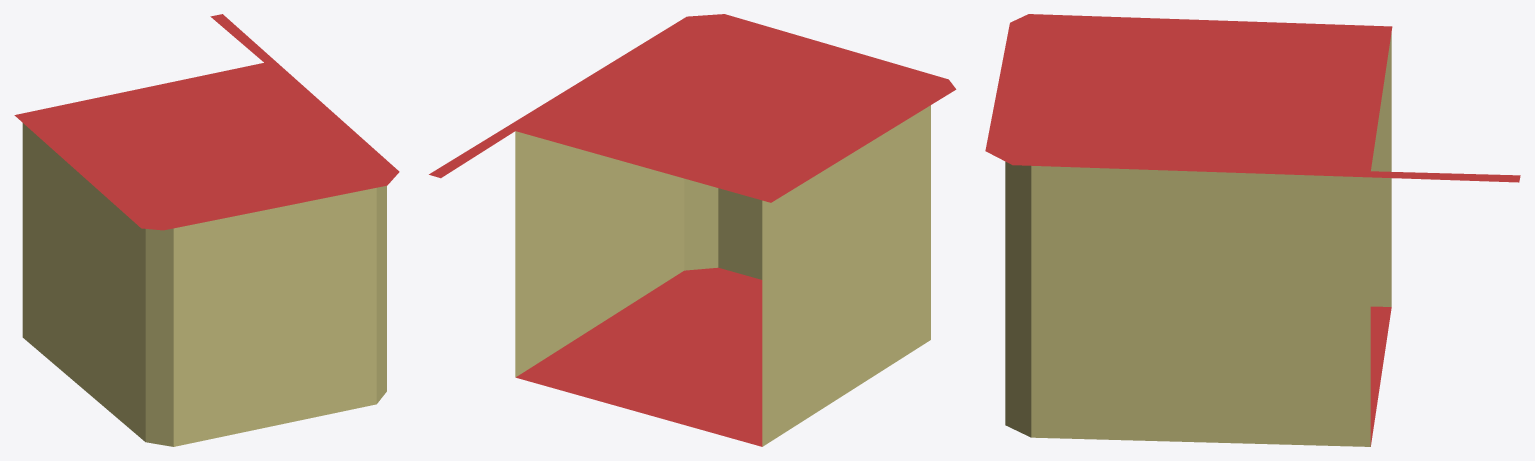
3 renders of one model, left to right at view 1: azimuth 30°, elevation 25°; view 2: azimuth 150°, elevation 25°; view 3: azimuth 270°, elevation 25°, orthographic. The views are drawn at different scales.
Bounding box in the file's own units: 7.59 × 10.19 × 5.79.
